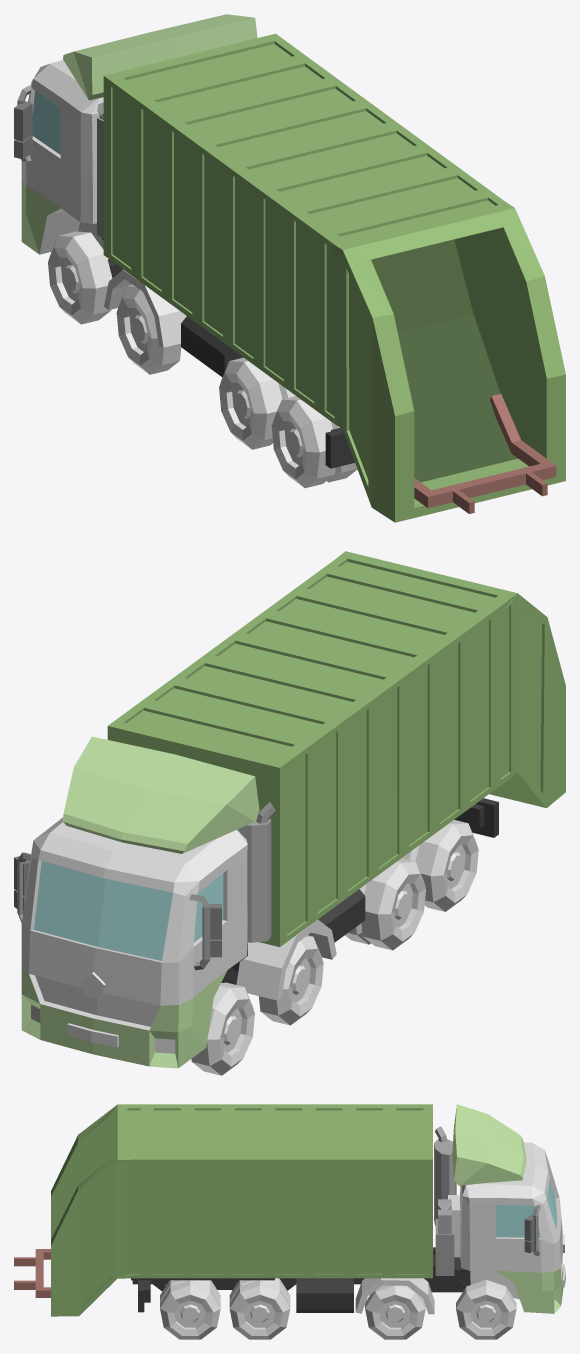
Rendered from Truck w Arm w Colour.fbx.
The picture shows the model from 3 angles, top to bottom: view 1: azimuth 30°, elevation 25°; view 2: azimuth 150°, elevation 25°; view 3: azimuth 270°, elevation 25°; orthographic projection. The views are drawn at different scales.
Visible parts, largest first — view 1: Truck 1 Cargo, Truck 1, WheelT1-1, WheelT1-4, Arm, WheelT1-3, WheelT1-2; view 2: Truck 1 Cargo, Truck 1, WheelT1-3, WheelT1-4, WheelT1-1, WheelT1-2; view 3: Truck 1 Cargo, Truck 1, WheelT1-7, WheelT1-8, WheelT1-5, WheelT1-6, Arm.
Part boxes in pixels (x1,y1,x2,y2): Truck 1 Cargo: (103, 33, 565, 522); Truck 1: (14, 14, 354, 468); WheelT1-1: (48, 231, 112, 324); WheelT1-4: (271, 396, 357, 488); Arm: (414, 394, 556, 513); WheelT1-3: (219, 357, 295, 449); WheelT1-2: (116, 284, 181, 374); Truck 1 Cargo: (107, 551, 565, 946); Truck 1: (14, 736, 498, 1068); WheelT1-3: (345, 858, 425, 950); WheelT1-4: (402, 820, 478, 911); WheelT1-1: (191, 982, 254, 1075); WheelT1-2: (258, 935, 323, 1025); Truck 1 Cargo: (51, 1104, 432, 1316); Truck 1: (131, 1104, 565, 1314); WheelT1-7: (229, 1278, 290, 1339); WheelT1-8: (160, 1280, 220, 1339); WheelT1-5: (456, 1280, 516, 1339); WheelT1-6: (365, 1285, 425, 1339); Arm: (14, 1249, 50, 1297).
Bounding box in the file's own units: 294 × 377 × 1020.
